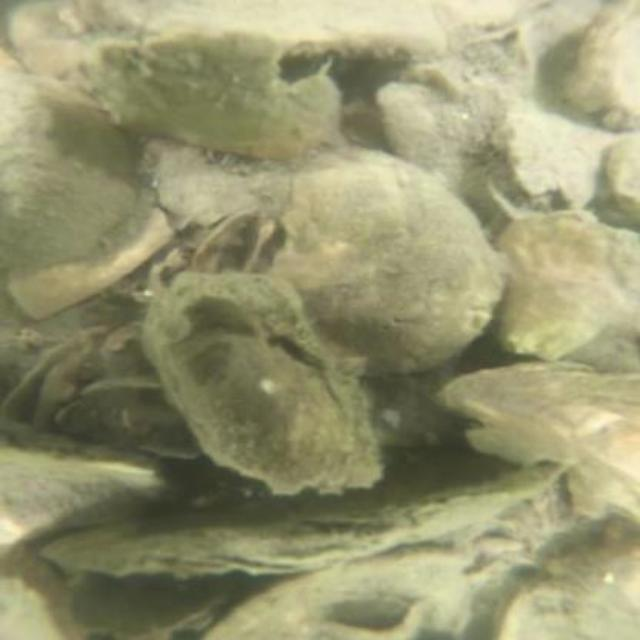Oyster-Closed: (40, 454, 573, 582), (266, 142, 510, 384), (28, 26, 349, 165), (0, 69, 139, 274), (0, 411, 191, 552), (0, 197, 181, 326), (494, 203, 637, 361), (488, 528, 635, 637), (551, 0, 638, 130)
Oyster-Open: (133, 270, 378, 492)
